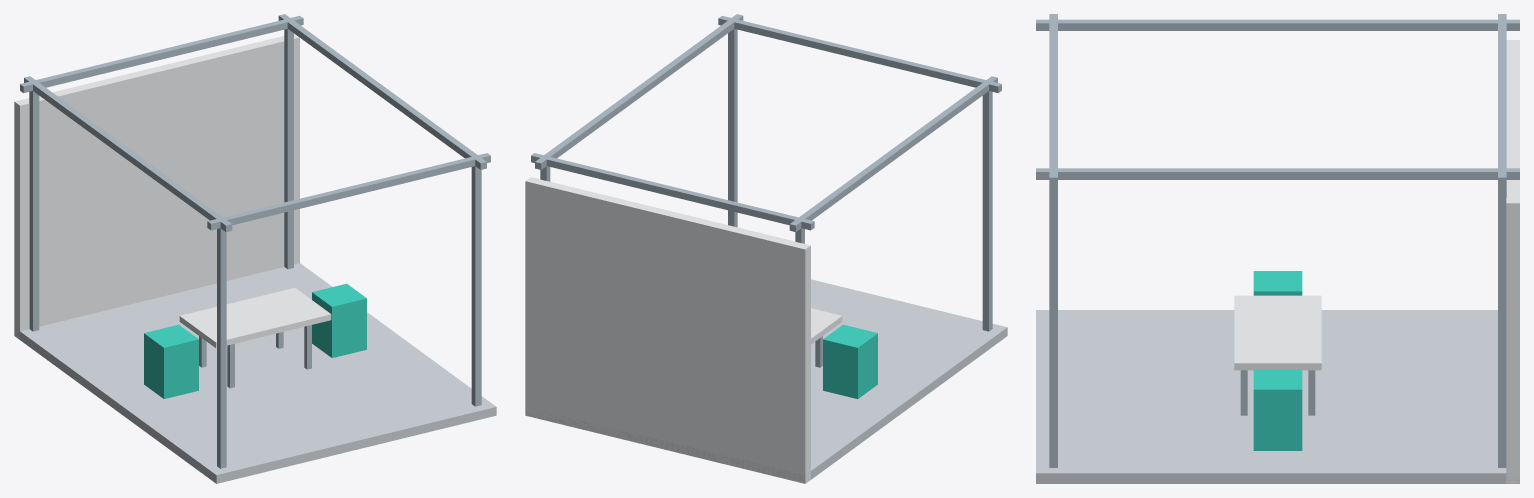
The picture shows the model from 3 angles, left to right: view 1: azimuth 30°, elevation 25°; view 2: azimuth 150°, elevation 25°; view 3: azimuth 270°, elevation 25°; orthographic projection. The views are drawn at different scales.
Parts seen in each view (by area): view 1: Exhibition Booth Concept; view 2: Exhibition Booth Concept; view 3: Exhibition Booth Concept.
Part boxes in pixels (bbox=[...]): Exhibition Booth Concept: bbox=[14, 14, 496, 483]; Exhibition Booth Concept: bbox=[525, 14, 1007, 483]; Exhibition Booth Concept: bbox=[1036, 14, 1519, 483].
Bounding box in the file's own units: 4 × 3.49 × 5.
